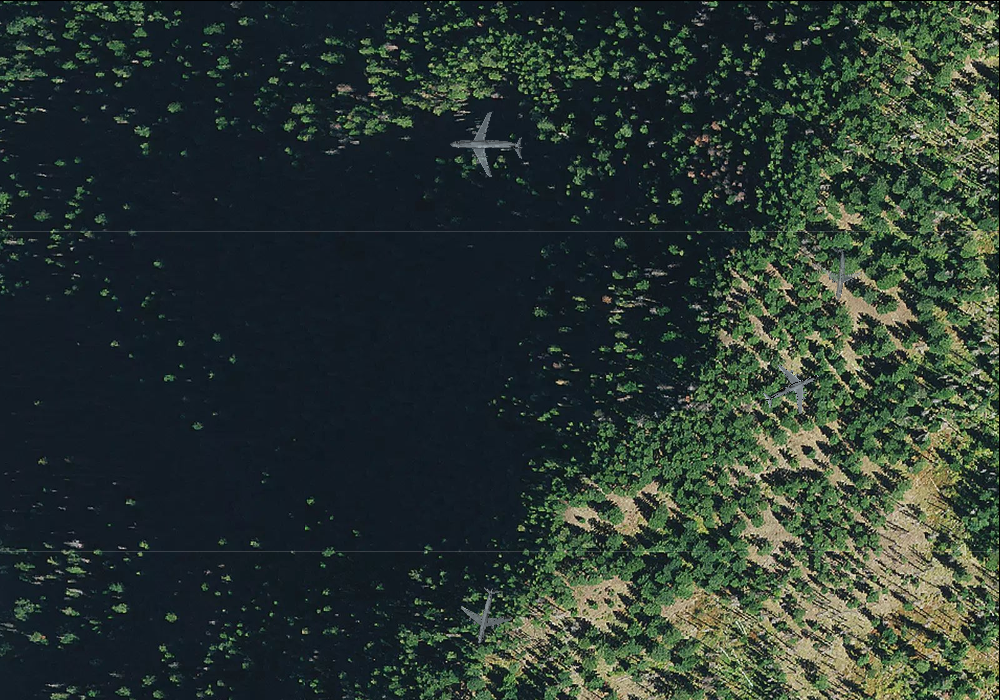plane: (753, 350, 830, 426), (449, 110, 523, 180), (453, 582, 518, 650), (812, 244, 865, 302)
